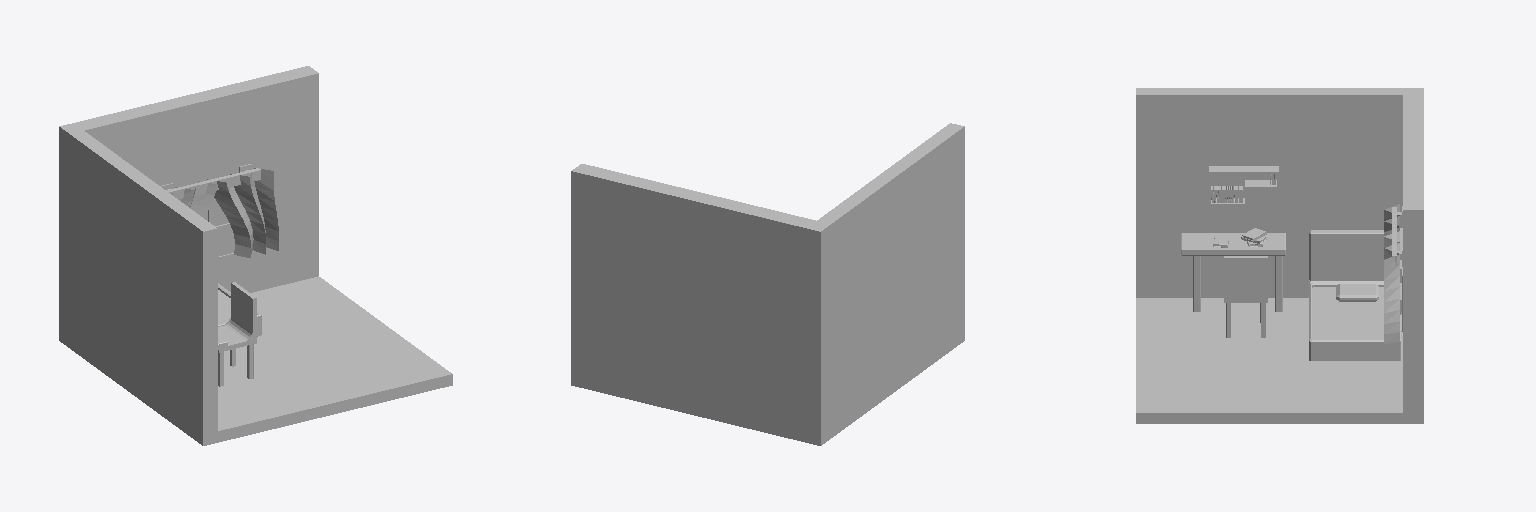
Rendered from isometric-low-poly-bedroom.obj.
3 views of the same model, side by side, from view 1: azimuth 30°, elevation 25°; view 2: azimuth 150°, elevation 25°; view 3: azimuth 270°, elevation 25° (orthographic).
Bounding box in the file's own units: 9.19 × 7.55 × 9.19.